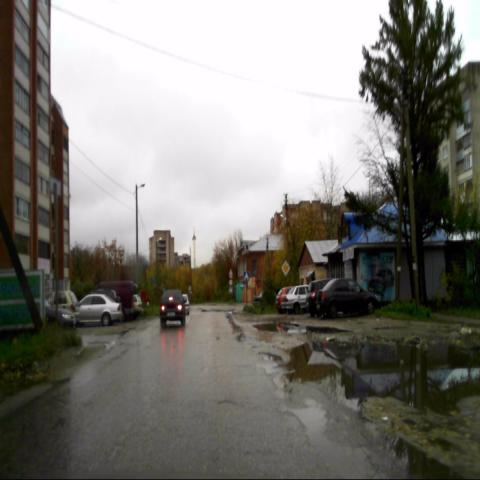2_1: (281, 261, 290, 276)
